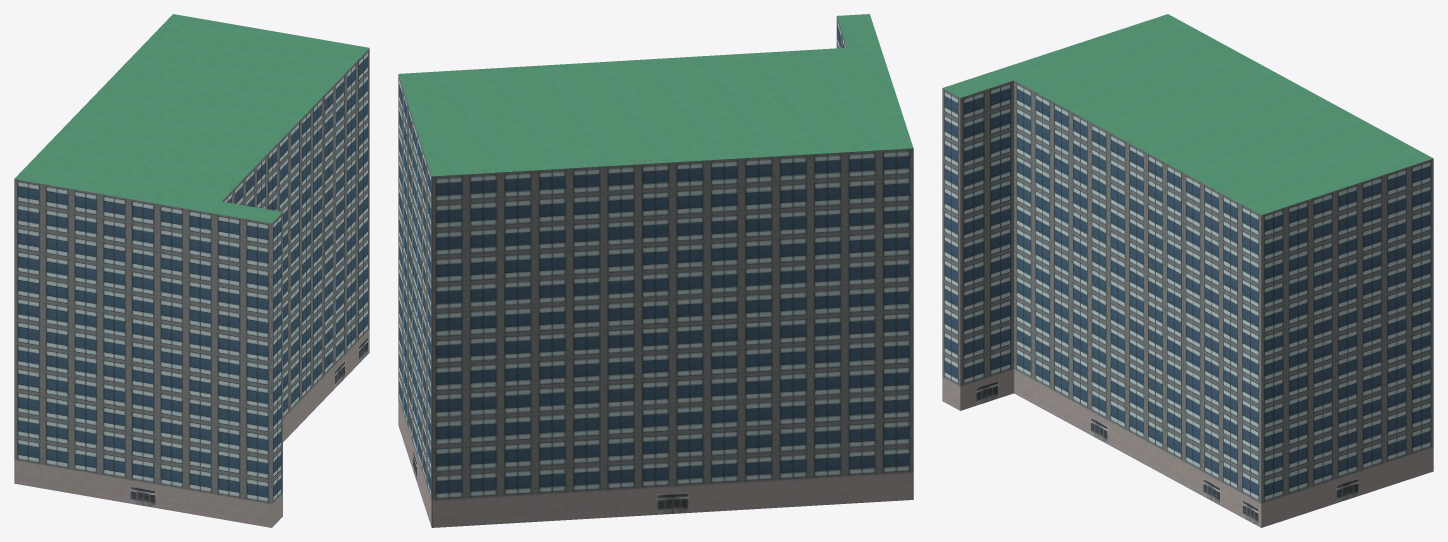
3 views of the same model, side by side, from view 1: azimuth 30°, elevation 25°; view 2: azimuth 150°, elevation 25°; view 3: azimuth 270°, elevation 25° (orthographic). The views are drawn at different scales.
Visible parts, largest first — view 1: BuildingMaster_1971194395614463914400000000_0, BuildingMaster_1971194395614463914400000000_1; view 2: BuildingMaster_1971194395614463914400000000_0, BuildingMaster_1971194395614463914400000000_1; view 3: BuildingMaster_1971194395614463914400000000_0, BuildingMaster_1971194395614463914400000000_1.
Boxes of the visible parts, x1,y1,x2,y2 form: BuildingMaster_1971194395614463914400000000_0: [14, 48, 369, 527]; BuildingMaster_1971194395614463914400000000_1: [14, 14, 369, 223]; BuildingMaster_1971194395614463914400000000_0: [398, 16, 913, 527]; BuildingMaster_1971194395614463914400000000_1: [398, 14, 913, 176]; BuildingMaster_1971194395614463914400000000_0: [942, 80, 1433, 527]; BuildingMaster_1971194395614463914400000000_1: [942, 14, 1433, 214].
Size of the model in its own units: 62.7 by 45.5 by 64.77.
Materials: 2 (2 with a texture image).
